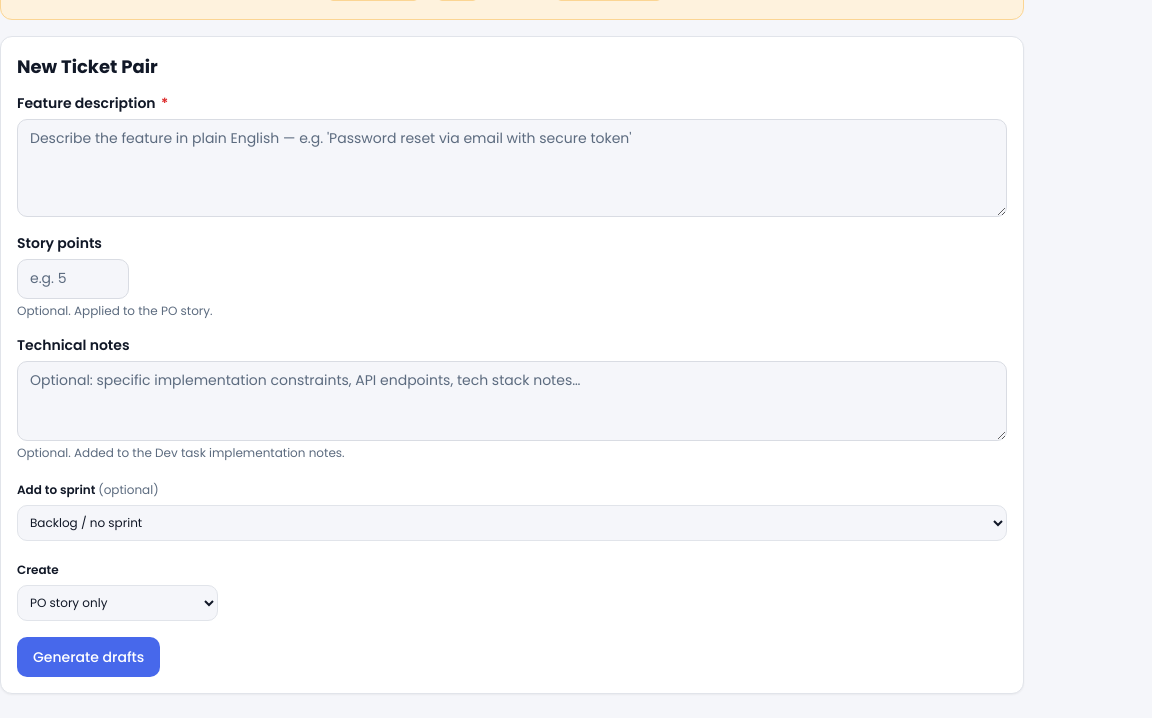
it: TicketGen › shows validation error when description is empty
(page scrolled)
Click the button "Generate drafts".
click(89, 657)  # box x1=17 y1=637 x2=160 y2=677
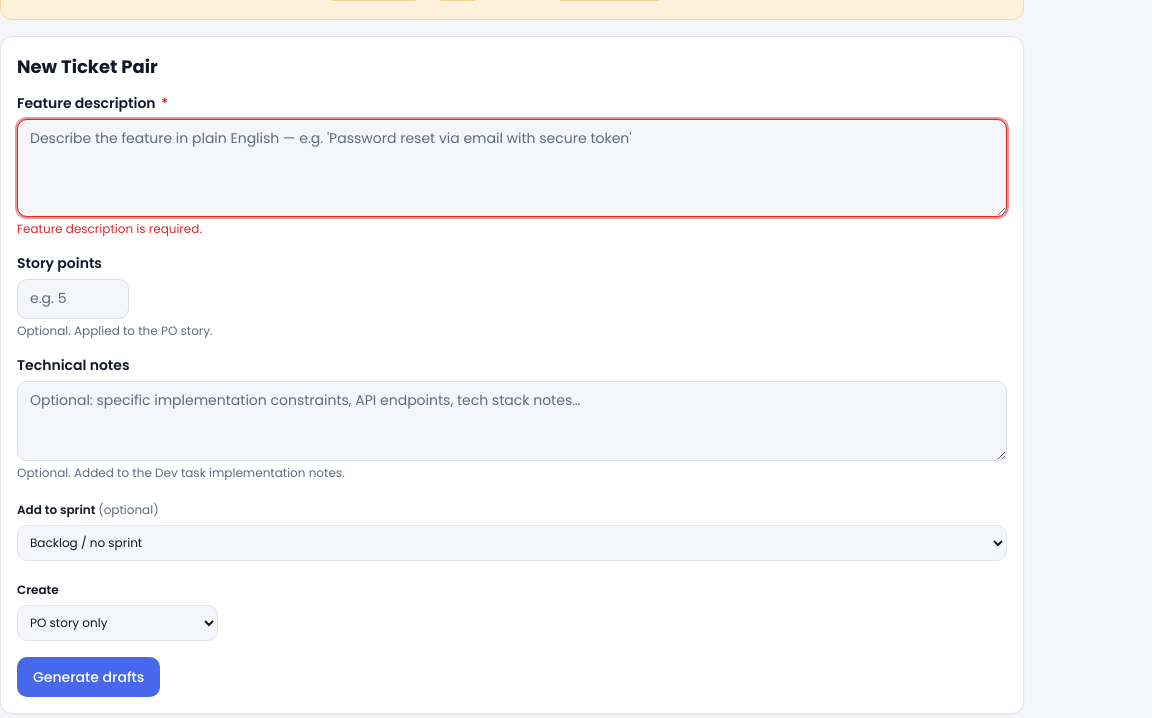
Expected: the text "Feature description is required." is shown, x1=17 y1=220 x2=202 y2=237
